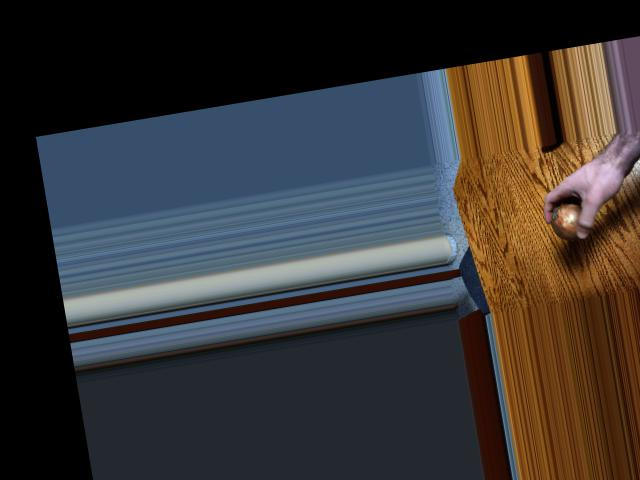onion: (548, 201, 591, 241)
